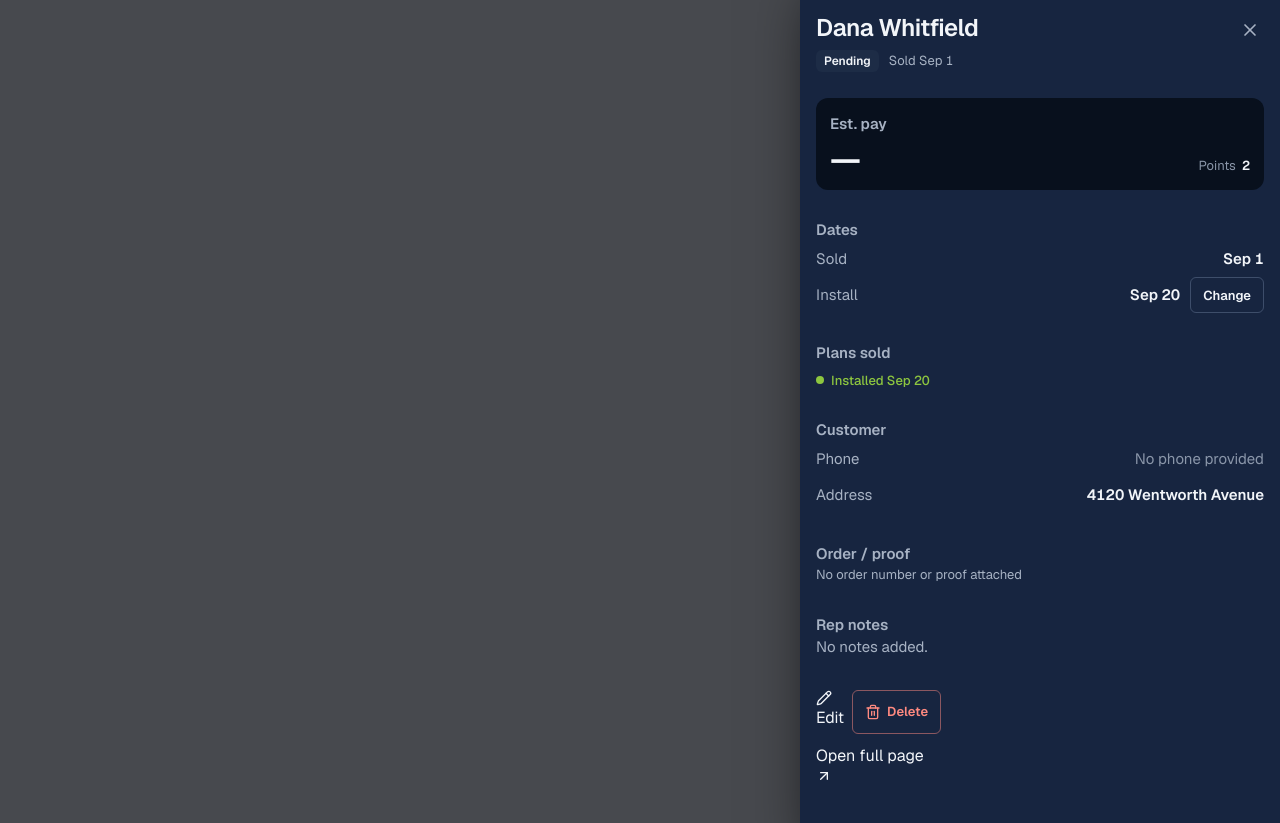
it: SaleDetailSheet install date › keeps an admin on someone else's sale on the full edit
What coordinates should you click on to do the following:
click the button "Change"
I would click on:
 (1227, 295)
Its box is x1=1190 y1=277 x2=1264 y2=313.
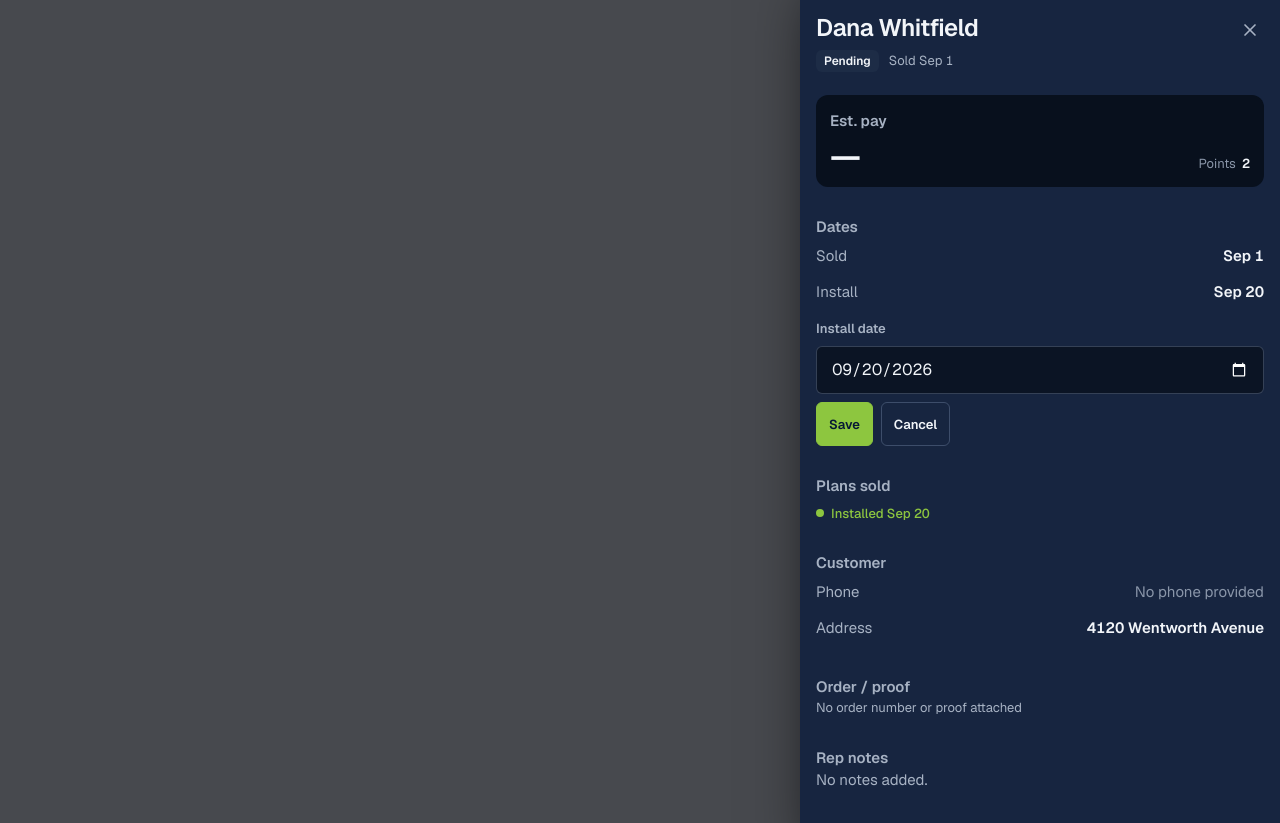
What coordinates should you click on to do the following:
click the button "Save"
I would click on:
 (844, 424)
Its box is x1=816 y1=402 x2=873 y2=446.
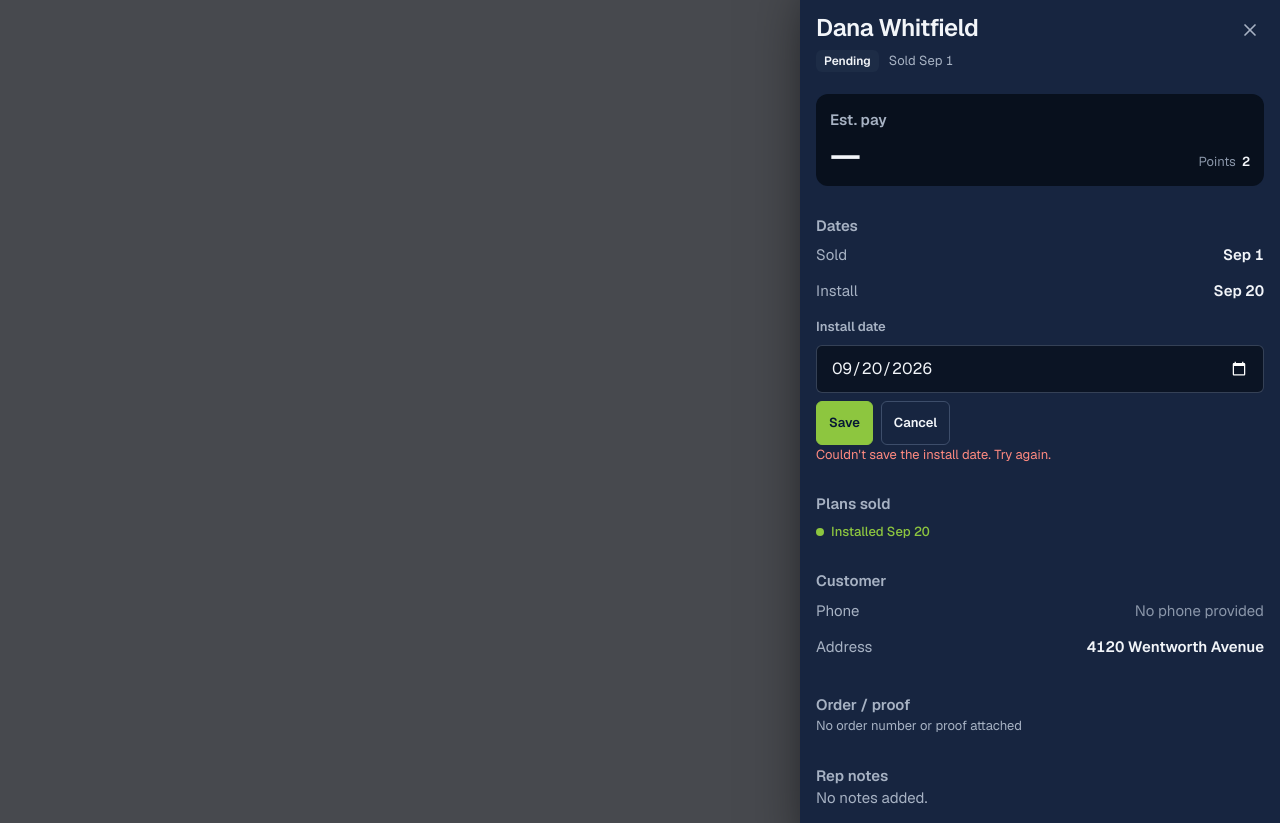
Expected: the text "Couldn't save the install date. Try again." is shown, x1=816 y1=446 x2=1051 y2=463
